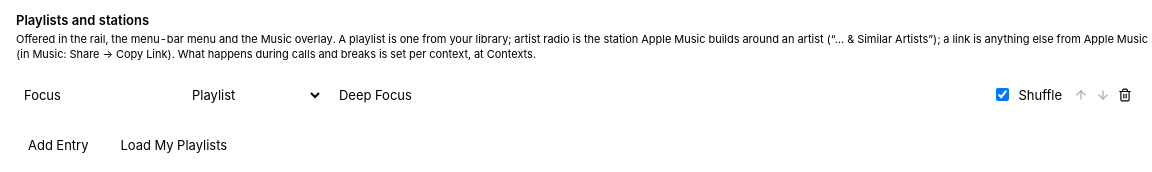
Test: MusicPage › entry card › ignores an emptied name and shows the saved one again
Clear the field named "Name" at (94, 95), box x1=16 y1=84 x2=172 y2=106
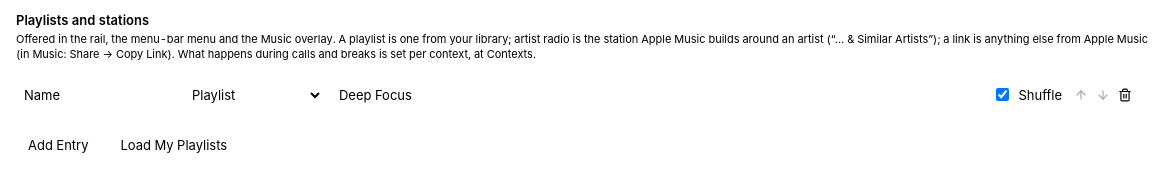
Press Tab
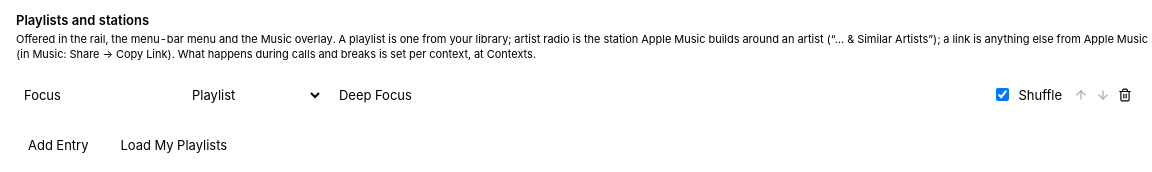
Check: the field named "Name" holds "Focus", box x1=16 y1=84 x2=172 y2=106
